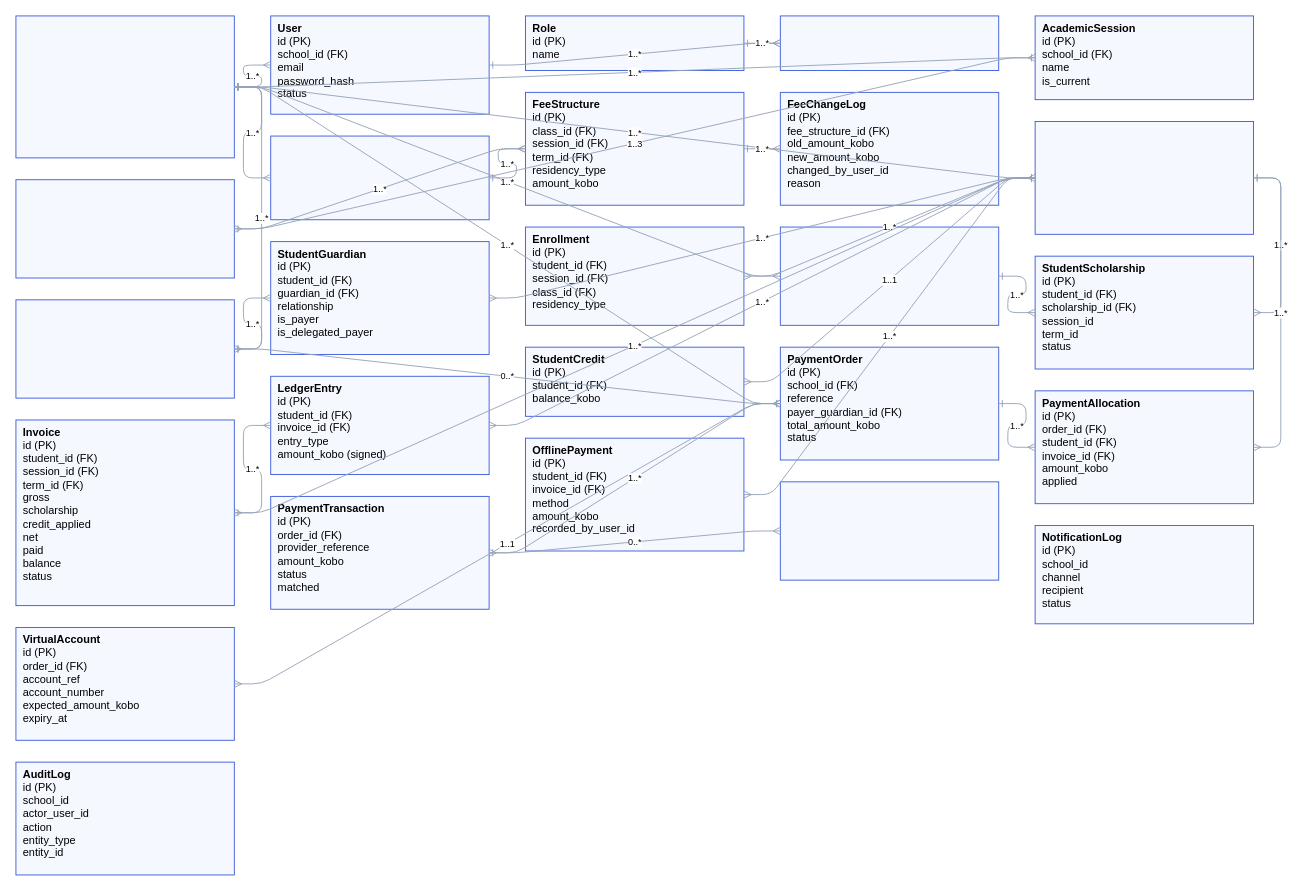
Image size: 1305x891. Some labels were removed from this diagram. The centre of each missing label's shape, as x and y in pixels:
"Guardian id (PK) school_id (FK) user_id (FK) phone email" goes at [124,348].
"ReconciliationException id (PK) school_id transaction_id (FK) type resolved" goes at [889,530].
"Scholarship id (PK) school_id (FK) type percentage amount_kobo" goes at [889,275].
"School id (PK) name code currency has_day has_boarding nomba_account_id status" goes at [124,86].
"SchoolClass id (PK) school_id (FK) name level_order" goes at [379,177].
"Student id (PK) school_id (FK) admission_no class_id (FK) residency_type status" goes at [1144,177].
"Term id (PK) session_id (FK) name sequence is_current" goes at [124,228].
"UserRole user_id (FK) role_id (FK)" goes at [889,43].
